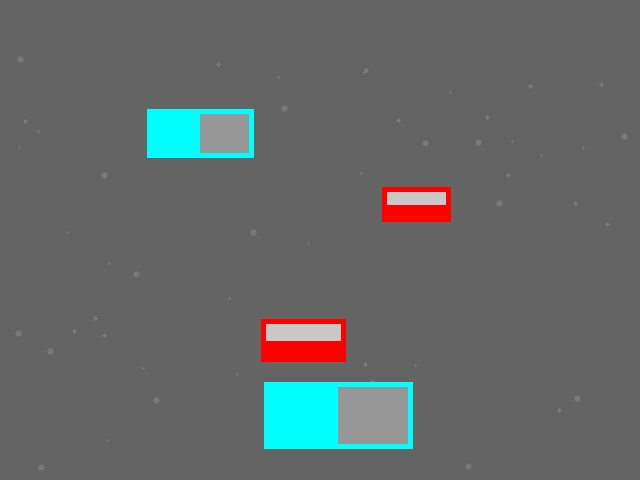car: (261, 319, 345, 361), (382, 187, 450, 221)
truck: (264, 382, 412, 448), (147, 109, 253, 157)
